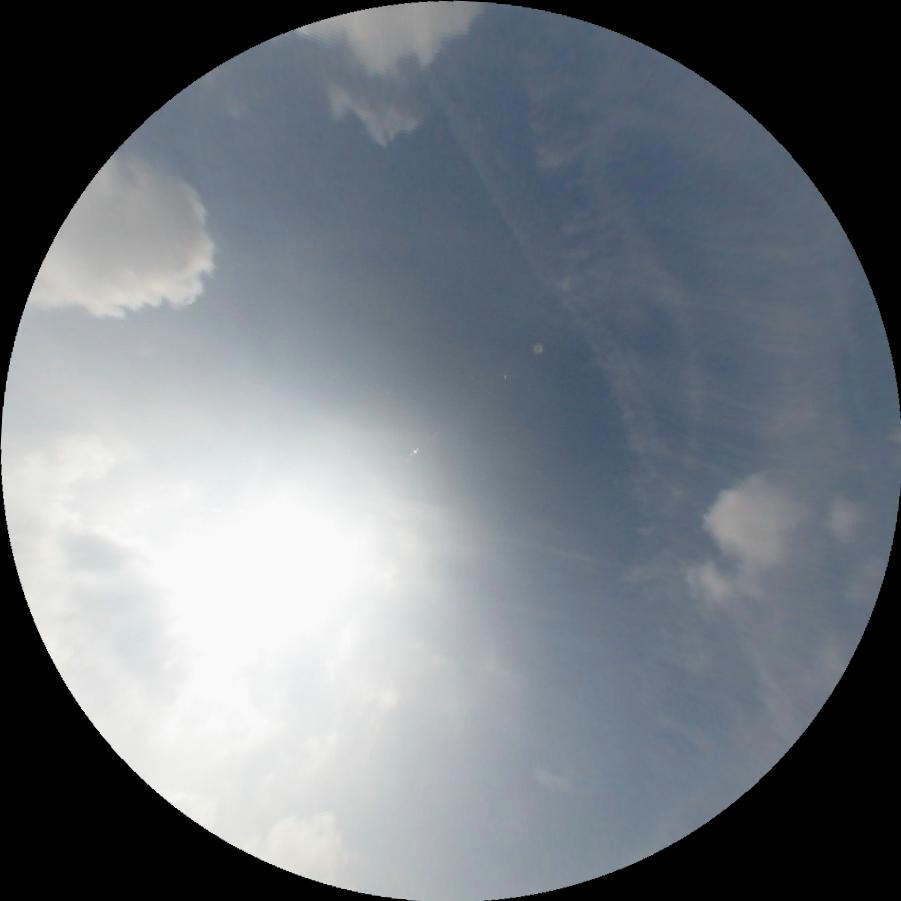contrail veryold: (415, 38, 820, 752)
sun: (211, 481, 387, 642)
